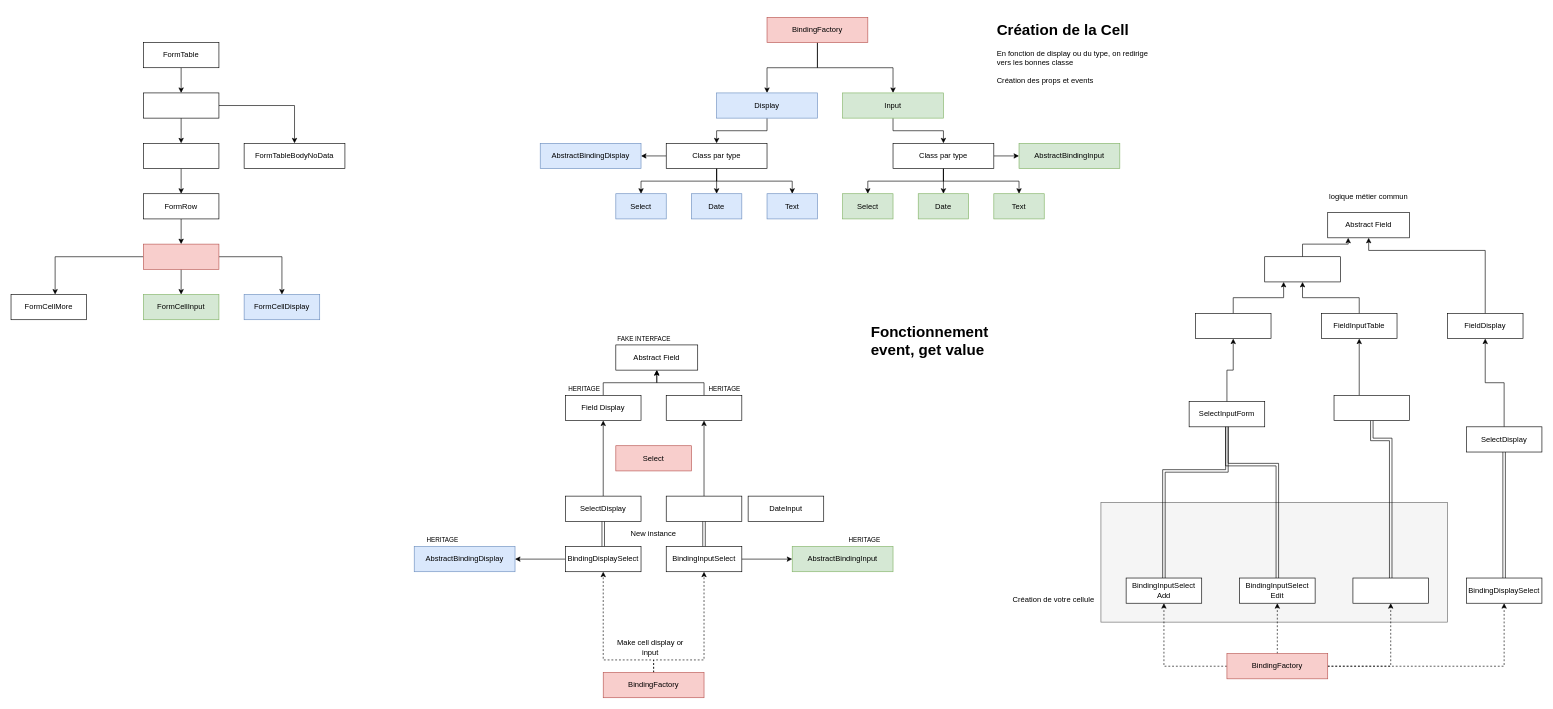
Some shapes in this 1553 by 709 pixel diagram are drawn without their labels. The shapes that lost their labels are listed below. From the top down, each one's centre as x and y in pixels, then its label:
At point 181,105: "FormTableBody".
At point 181,156: "FormTableBodyData".
At point 181,256: "FormCell".
At point 1302,269: "FieldInput".
At point 1233,326: "FieldInputTableForm".
At point 704,408: "Field Input".
At point 1371,408: "SelectInputTable".
At point 704,508: "SelectInput".
At point 1390,590: "BindingInputSelect Inline".
